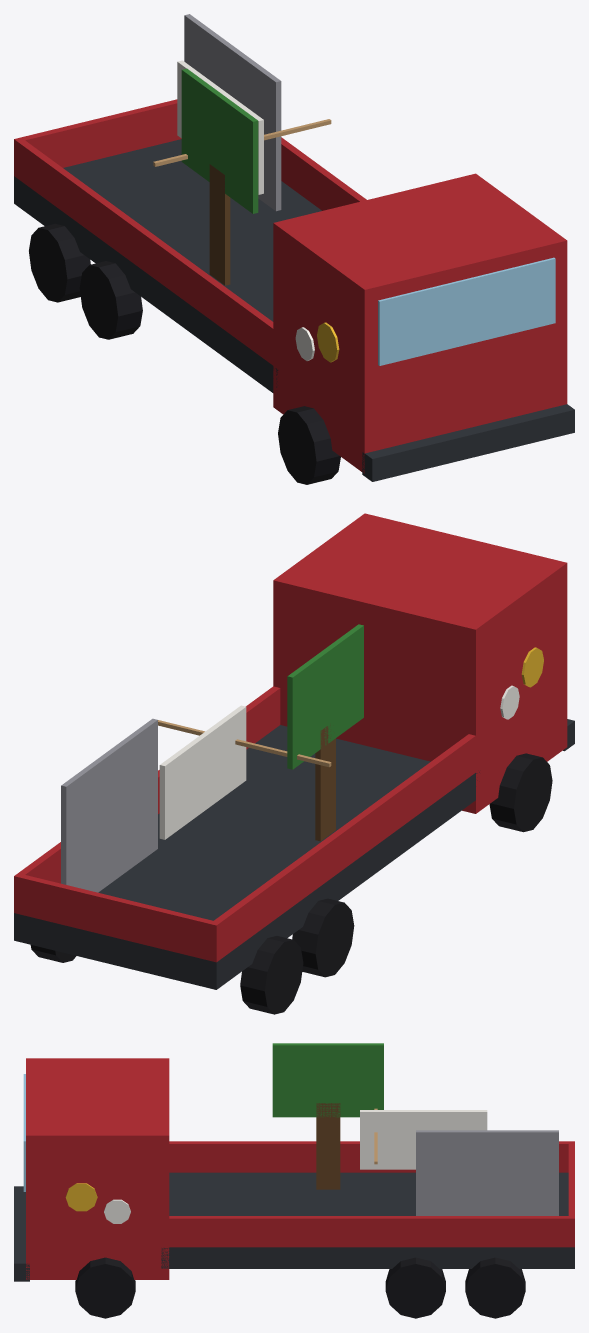
Rendered from scenery_truck.glb.
3 views of the same model, one above another, from view 1: azimuth 30°, elevation 25°; view 2: azimuth 150°, elevation 25°; view 3: azimuth 270°, elevation 25° (orthographic). The views are drawn at different scales.
Visible parts, largest first — view 1: body_truck_red, body_truck_dark, body_car_glass, wheels_tire (×3), scenery_tree_crown, scenery_castle_grey, scenery_tree_trunk, scenery_white, masks_mask_gold, scenery_scenery_card; view 2: body_truck_red, body_truck_dark, scenery_castle_grey, wheels_tire (×3), scenery_tree_crown, scenery_white, scenery_tree_trunk, scenery_scenery_card, masks_mask_gold; view 3: body_truck_red, body_truck_dark, scenery_castle_grey, wheels_tire (×3), scenery_tree_crown, scenery_white, scenery_tree_trunk, masks_mask_gold, masks_white.
Part boxes in pixels (box(x1,y1,x2,y2)): body_truck_red: box(14, 99, 567, 473); body_truck_dark: box(14, 139, 574, 481); body_car_glass: box(378, 257, 555, 365); wheels_tire (×3): box(29, 223, 340, 484); scenery_tree_crown: box(181, 68, 258, 213); scenery_castle_grey: box(184, 14, 281, 211); scenery_tree_trunk: box(209, 164, 230, 285); scenery_white: box(177, 60, 263, 194); masks_mask_gold: box(317, 322, 339, 362); scenery_scenery_card: box(153, 119, 331, 166); body_truck_red: box(14, 513, 567, 962); body_truck_dark: box(14, 719, 574, 989); scenery_castle_grey: box(61, 718, 157, 892); wheels_tire (×3): box(240, 753, 552, 1014); scenery_tree_crown: box(287, 624, 363, 769); scenery_white: box(159, 705, 246, 839); scenery_tree_trunk: box(315, 725, 335, 841); scenery_scenery_card: box(158, 720, 331, 767); masks_mask_gold: box(521, 647, 543, 687); body_truck_red: box(26, 1058, 574, 1279); body_truck_dark: box(14, 1172, 574, 1281); scenery_castle_grey: box(416, 1130, 558, 1215); wheels_tire (×3): box(75, 1257, 525, 1318); scenery_tree_crown: box(272, 1043, 383, 1117); scenery_white: box(360, 1110, 487, 1169); scenery_tree_trunk: box(316, 1103, 340, 1189); masks_mask_gold: box(65, 1183, 97, 1211); masks_white: box(104, 1199, 130, 1223).
Size of the model in its own units: 2.68 by 2.9 by 7.05.
